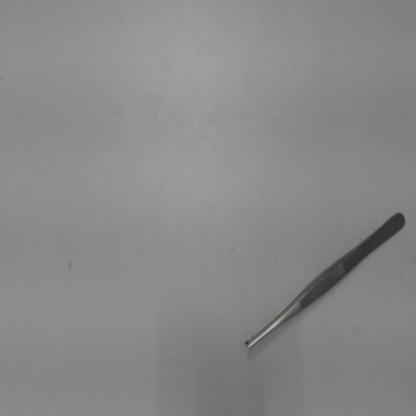Gillies Toothed Dissector: (239, 208, 411, 358)
